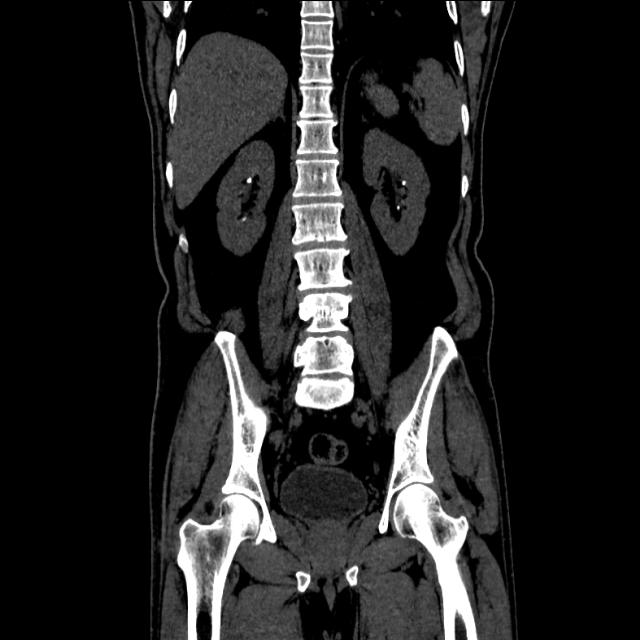kidney: (367, 130, 428, 248), (233, 144, 268, 249)
stone: (402, 181, 406, 185), (248, 178, 251, 183), (243, 219, 247, 222), (397, 207, 400, 209)
